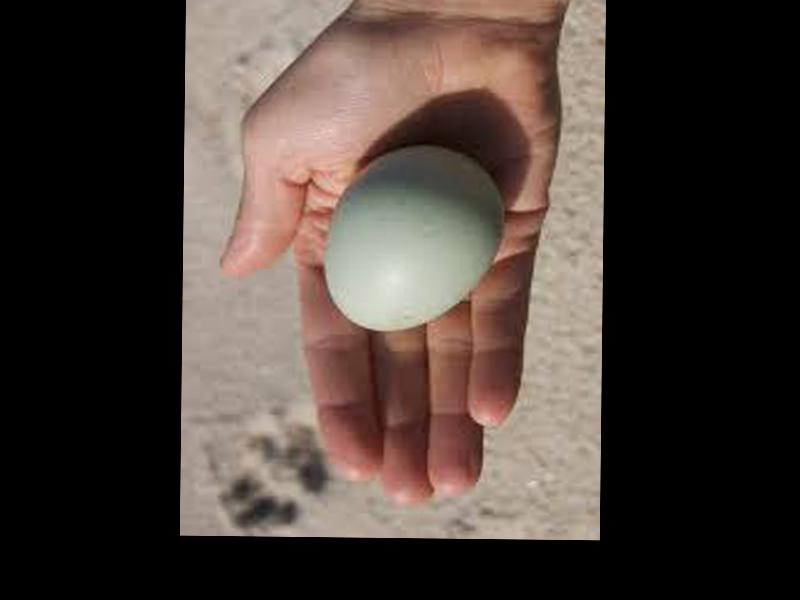Eggs: (327, 148, 505, 328)
